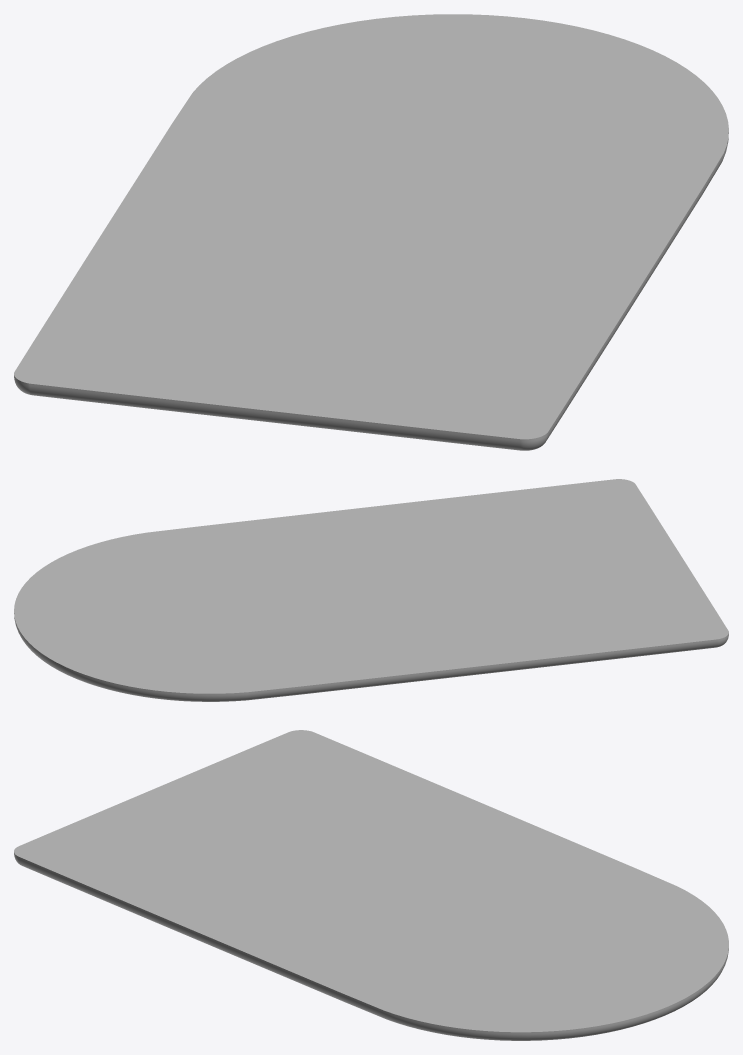
Rendered from diningtable_0202_top.glb.
3 renders of one model, top to bottom at view 1: azimuth 30°, elevation 25°; view 2: azimuth 150°, elevation 25°; view 3: azimuth 270°, elevation 25°, orthographic. The views are drawn at different scales.
Parts seen in each view (by area): view 1: diningtable_0202_top; view 2: diningtable_0202_top; view 3: diningtable_0202_top.
Boxes of the visible parts, left/top/right/bottom form: diningtable_0202_top: left=14, top=14, right=728, bottom=450; diningtable_0202_top: left=14, top=479, right=728, bottom=701; diningtable_0202_top: left=14, top=730, right=728, bottom=1040.
Size of the model in its own units: 1.37 by 0.0242 by 1.37.
1 material, 1 textured.
